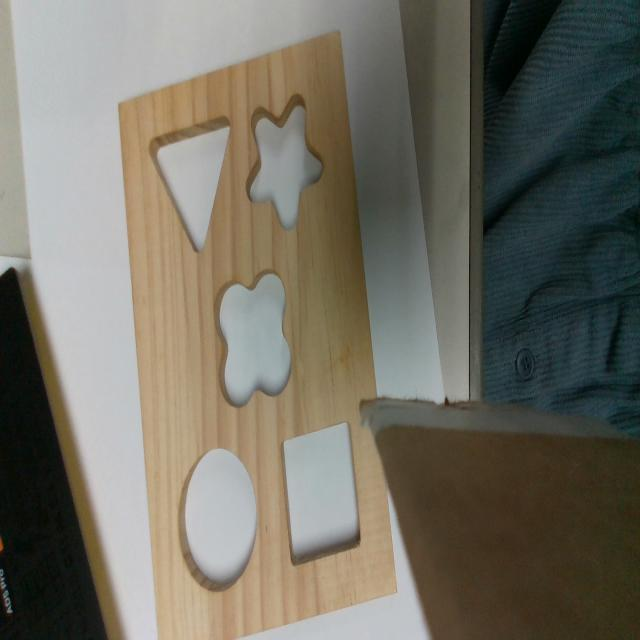circle: (178, 447, 258, 593)
flower: (211, 269, 293, 408)
square: (280, 419, 363, 568)
star: (245, 90, 324, 235)
triangle: (148, 114, 232, 255)
